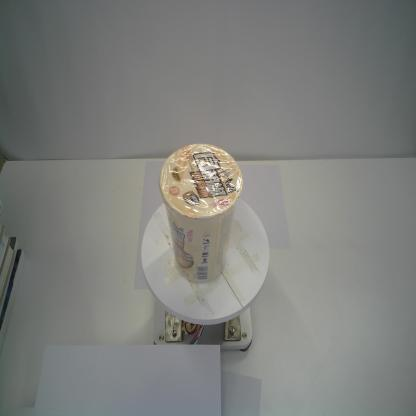Instant Noodles: (160, 141, 245, 284)
